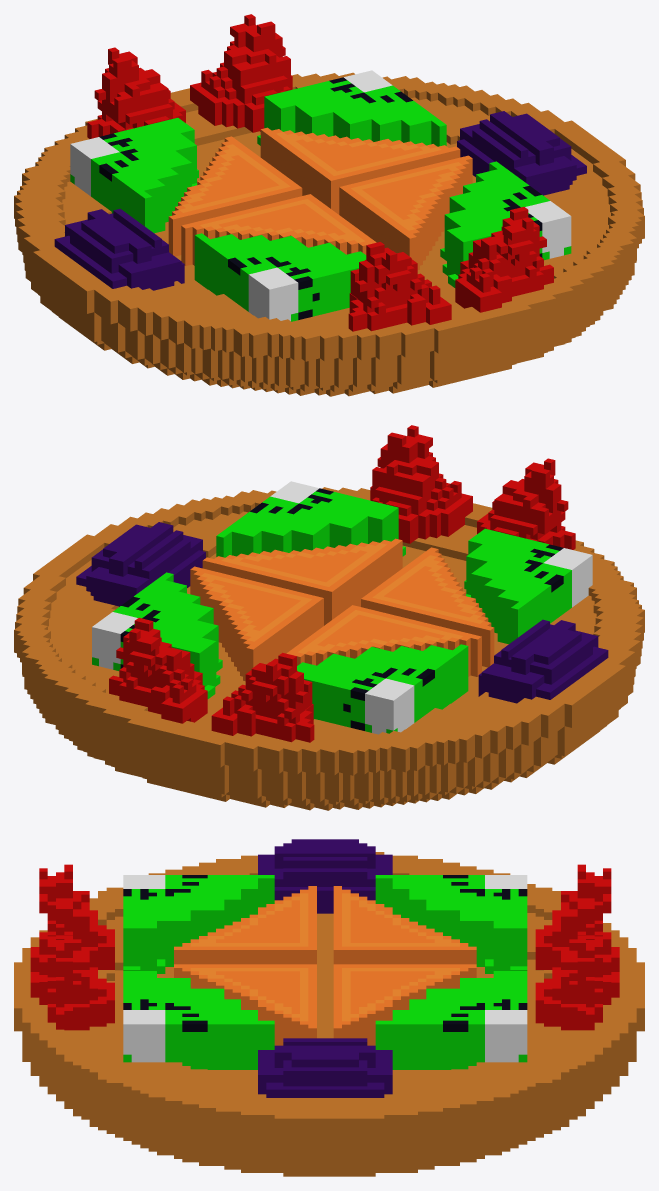
The model's file is FruitTart.obj.
The picture shows the model from 3 angles, top to bottom: view 1: azimuth 30°, elevation 25°; view 2: azimuth 150°, elevation 25°; view 3: azimuth 270°, elevation 25°; orthographic projection.
Parts seen in each view (by area): view 1: FruitTart; view 2: FruitTart; view 3: FruitTart.
Boxes of the visible parts, x1=… form: FruitTart: x1=14, y1=14, x2=644, y2=396; FruitTart: x1=14, y1=425, x2=644, y2=810; FruitTart: x1=14, y1=839, x2=644, y2=1176.
Bounding box in the file's own units: 75 × 19 × 75.
1 material, 1 textured.
